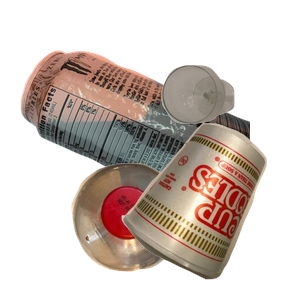glass: (159, 63, 300, 179)
metal: (18, 48, 258, 228)
plastic: (69, 161, 245, 300)
trash: (119, 121, 300, 300)
